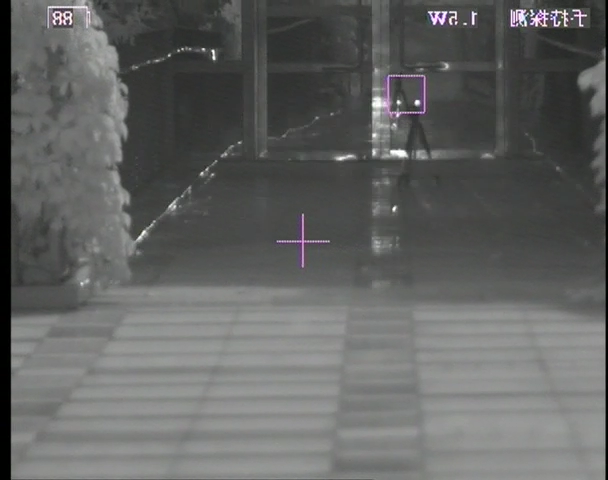my: (413, 98, 421, 108)
